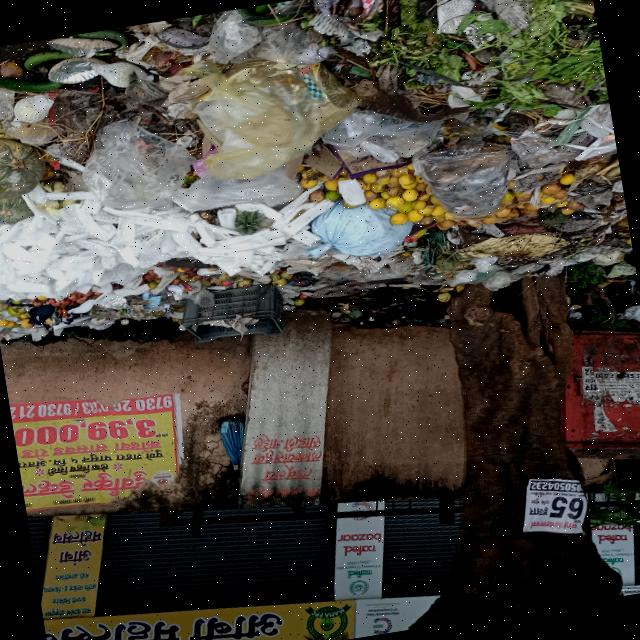garbage: (0, 0, 628, 358)
